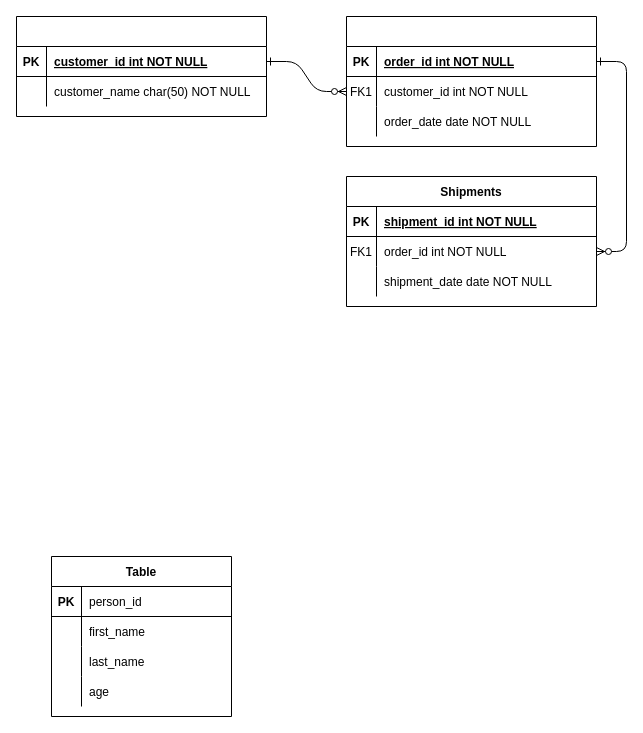
The diagram is 643 pixels wide and 733 high, and some of its shapes have lost their labels. Each missing label, with the box of its shape:
Customers: (16, 16, 266, 116)
Orders: (346, 16, 596, 146)
